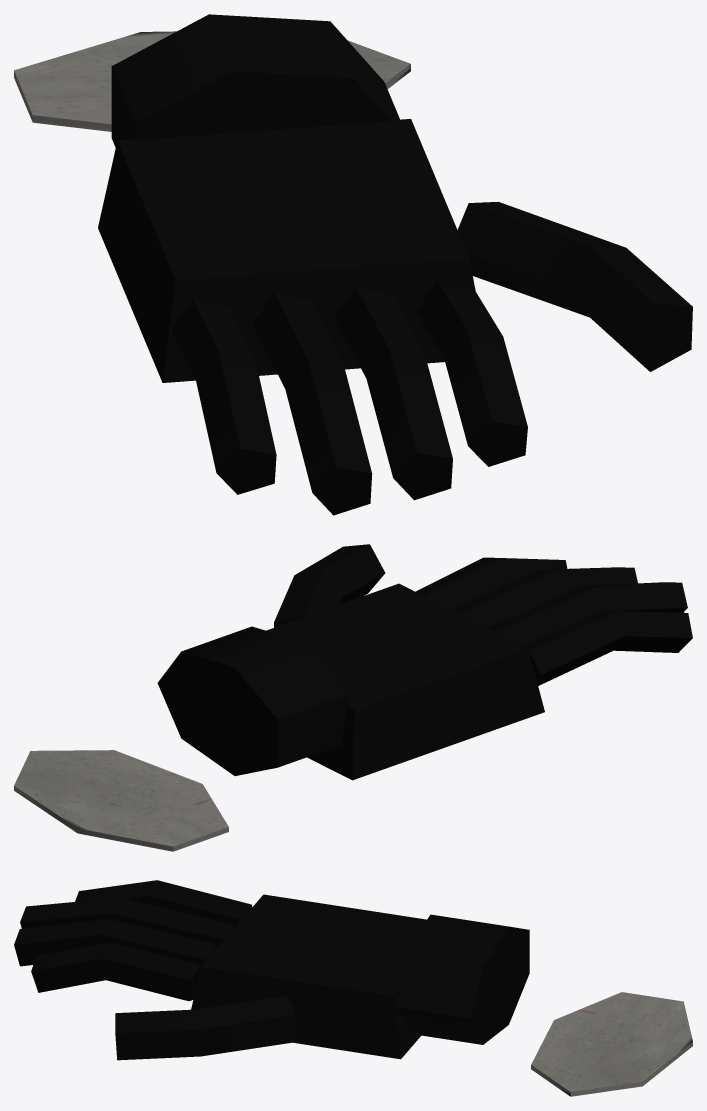
The model's file is severed_hand.fbx.
The picture shows the model from 3 angles, top to bottom: view 1: azimuth 30°, elevation 25°; view 2: azimuth 150°, elevation 25°; view 3: azimuth 270°, elevation 25°; orthographic projection. The views are drawn at different scales.
Visible parts, largest first — view 1: severed_hand; view 2: severed_hand; view 3: severed_hand.
Part boxes in pixels (<box>): severed_hand: <box>14,14,692,515</box>; severed_hand: <box>14,544,692,851</box>; severed_hand: <box>14,880,692,1096</box>.
Size of the model in its own units: 0.1641 by 0.0429 by 0.2684.
